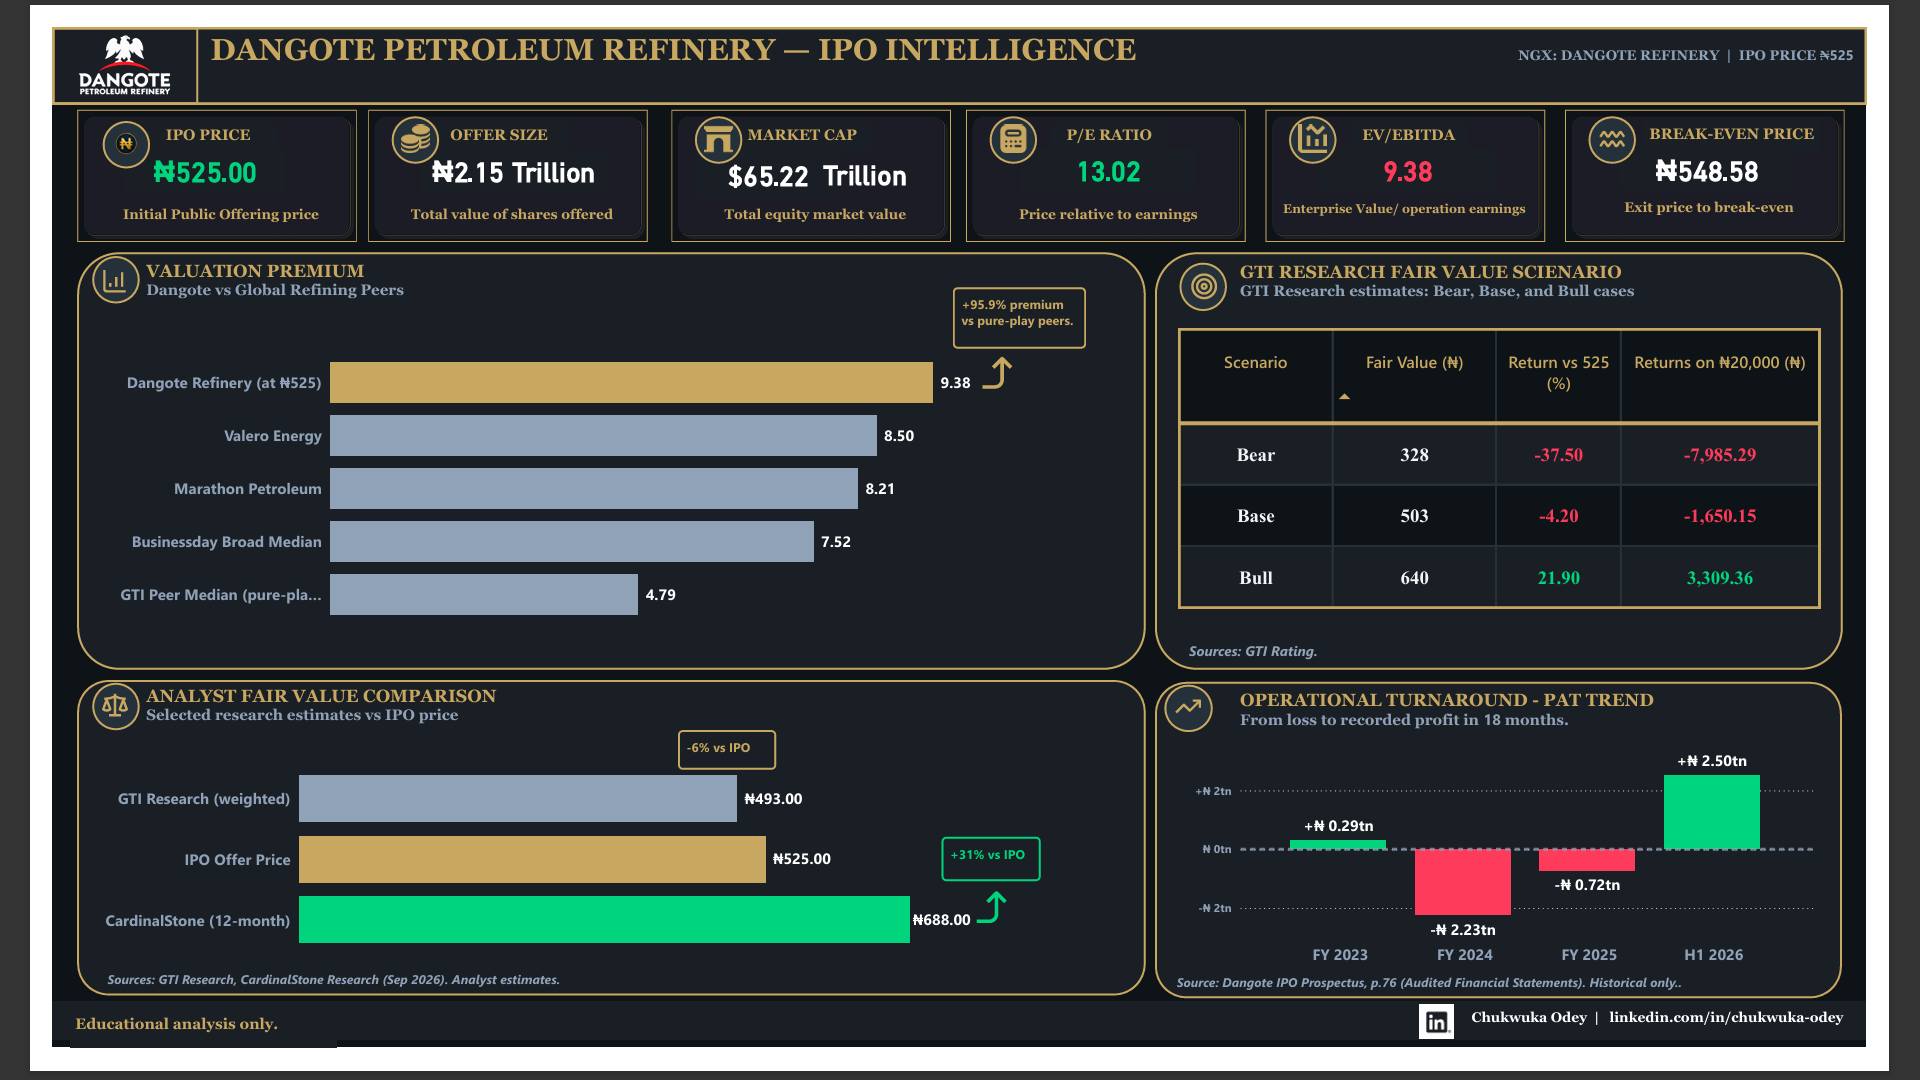

The page's visual inventory and layout, read from the dashboard file:
{"tool":"powerbi","page":{"name":"Page 1","canvas":[1920,1080],"ordinal":0},"visuals":[{"type":"group","id":"g1","title":"Header","box":[0,0,1920,81.1],"z":0},{"type":"shape","box":[0,0,1920,81.1],"z":0,"group":"g1"},{"type":"shape","box":[26,87.1,296,140],"z":0,"group":"g2"},{"type":"shape","box":[333.8,87.1,296,140],"z":0,"group":"g3"},{"type":"shape","box":[654.9,87.1,296,140],"z":0,"group":"g4"},{"type":"shape","box":[967.4,87.1,296,140],"z":0,"group":"g6"},{"type":"shape","box":[1283.8,87.1,296,140],"z":0,"group":"g12"},{"type":"shape","box":[1600.8,87.1,296,140],"z":0,"group":"g17"},{"type":"shape","box":[358.5,93.7,50,50],"z":0,"group":"g7"},{"type":"shape","box":[679.6,93.7,50,50],"z":0,"group":"g13"},{"type":"shape","box":[992.1,93.7,50,50],"z":0,"group":"g8"},{"type":"shape","box":[1308.5,93.7,50,50],"z":0,"group":"g9"},{"type":"shape","box":[1625.5,93.7,50,50],"z":0,"group":"g10"},{"type":"shape","box":[53,99.5,50,50],"z":0,"group":"g11"},{"type":"shape","box":[25.9,238.4,1130.7,441.6],"z":0,"group":"g18"},{"type":"shape","box":[1166.9,238.4,727.6,441.6],"z":0,"group":"g19"},{"type":"shape","box":[42.2,242.5,50,50],"z":0,"group":"g14"},{"type":"shape","box":[25.6,691.2,1130.7,334.3],"z":0,"group":"g21"},{"type":"shape","box":[1166.9,693.3,727.5,334.9],"z":0,"group":"g22"},{"type":"image","box":[970.7,887.4,44.8,87.5],"z":0,"group":"g15"},{"type":"shape","box":[0,1031.1,1920.5,41.4],"z":0,"group":"g20"},{"type":"textbox","box":[162.1,0,1757.9,81.1],"z":1000,"group":"g1"},{"type":"group","id":"g2","title":"IPO Price","box":[26,87.1,296,140],"z":1000},{"type":"image","box":[368.6,102.7,30.3,30.3],"z":1000,"group":"g7"},{"type":"image","box":[689.7,102.7,30.3,30.3],"z":1000,"group":"g13"},{"type":"image","box":[1002.2,102.7,30.3,30.3],"z":1000,"group":"g8"},{"type":"image","box":[1318.6,102.7,30.3,30.3],"z":1000,"group":"g9"},{"type":"image","box":[1635.6,102.7,30.3,30.3],"z":1000,"group":"g10"},{"type":"image","box":[63.1,108.5,30.3,30.3],"z":1000,"group":"g11"},{"type":"card","title":"Card 1","fields":{"Values":["Table.KPI IPO Price"]},"box":[77.1,128,168.5,46],"z":1000,"group":"g2"},{"type":"card","title":"Card 1","fields":{"Values":["Table.KPI PE"]},"box":[1025.4,128.4,185.4,44.9],"z":1000,"group":"g6"},{"type":"card","title":"Card 1","fields":{"Values":["Table.KPI EV_EBITDA"]},"box":[1341.8,128.4,185.4,44.9],"z":1000,"group":"g12"},{"type":"card","title":"Card 1","fields":{"Values":["Table.Break-Even Price"]},"box":[1658.8,128.4,185.4,44.9],"z":1000,"group":"g17"},{"type":"card","title":"Card 1","fields":{"Values":["Table.KPI Offer Size"]},"box":[390,129.8,195.5,43.8],"z":1000,"group":"g3"},{"type":"card","title":"Card 1","fields":{"Values":["Table.KPI Market Cap"]},"box":[679.6,133.2,155.1,46.1],"z":1000,"group":"g4"},{"type":"textbox","box":[93.4,242.5,635.4,74.5],"z":1000,"group":"g18"},{"type":"textbox","box":[1252,243,583,78],"z":1000,"group":"g19"},{"type":"shape","box":[1193.4,249.3,50,50.7],"z":1000,"group":"g5"},{"type":"image","box":[51,252.5,30,31.2],"z":1000,"group":"g14"},{"type":"textbox","box":[93.9,692.6,537.6,66.1],"z":1000,"group":"g21"},{"type":"shape","box":[41.9,694.3,50,50],"z":1000,"group":"g15"},{"type":"textbox","box":[1252.1,696,479.2,66.1],"z":1000,"group":"g22"},{"type":"shape","box":[1177.4,696.4,51,50.1],"z":1000,"group":"g16"},{"type":"textbox","box":[1496.8,1034.5,423.2,37],"z":1000,"group":"g20"},{"type":"textbox","box":[1197.6,644.6,622.2,30.3],"z":1500,"group":"g19"},{"type":"image","box":[0,0,153.6,81.1],"z":2000,"group":"g1"},{"type":"group","id":"g3","title":"Offer Size","box":[333.8,87.1,296,140],"z":2000},{"type":"textbox","box":[1612.4,175.7,280.9,39.3],"z":2000,"group":"g17"},{"type":"textbox","box":[1289.3,176.9,283.8,37.5],"z":2000,"group":"g12"},{"type":"textbox","box":[50.6,184.2,251.7,31.5],"z":2000,"group":"g2"},{"type":"textbox","box":[358.4,184.2,251.7,31.5],"z":2000,"group":"g3"},{"type":"textbox","box":[679.5,184.2,251.7,31.5],"z":2000,"group":"g4"},{"type":"textbox","box":[992,184.2,251.7,31.5],"z":2000,"group":"g6"},{"type":"image","box":[1204.5,258.7,29.5,31.9],"z":2000,"group":"g5"},{"type":"tableEx","fields":{"Values":["GTI_Scenarios.Scenario","GTI_Scenarios.Fair Value (₦)","GTI_Scenarios.Return vs 525 (%)","GTI_Scenarios.Profit on ₦20,000 (₦)"]},"box":[1186.2,314.4,710.4,320],"z":2000,"group":"g19"},{"type":"clusteredBarChart","fields":{"Category":["Peer_Comparison.Benchmark"],"Y":["Sum(Peer_Comparison.EV_EBITDA_x)"]},"box":[48.4,319.8,928,331.2],"z":2000,"group":"g18"},{"type":"image","box":[50.7,701.9,30,30],"z":2000,"group":"g15"},{"type":"image","box":[1186.3,704,30.6,30],"z":2000,"group":"g16"},{"type":"columnChart","fields":{"Y":["Table (3).PAT Display"],"Category":["Table (3).Period"]},"box":[1204.2,751.5,664.3,251.7],"z":2000,"group":"g22"},{"type":"clusteredBarChart","fields":{"Category":["Table (2).Source"],"Y":["Sum(Table (2).Fair Value)"]},"box":[48.1,752.8,928,250.7],"z":2000,"group":"g21"},{"type":"image","box":[1426.6,1034.8,77.6,37],"z":2000,"group":"g20"},{"type":"textbox","box":[940.8,856.9,104.5,46.9],"z":2500,"group":"g21"},{"type":"textbox","box":[52.8,993.8,759.5,29.9],"z":2750,"group":"g21"},{"type":"textbox","box":[1184.6,996.8,599,29.9],"z":2750,"group":"g22"},{"type":"group","id":"g4","title":"Market Cap","box":[654.9,87.1,296,140],"z":3000},{"type":"textbox","box":[1683.5,98.1,187.6,33.7],"z":3000,"group":"g17"},{"type":"textbox","box":[90.8,98.8,147.2,33.7],"z":3000,"group":"g2"},{"type":"textbox","box":[398.6,98.8,147.2,33.7],"z":3000,"group":"g3"},{"type":"textbox","box":[719.7,98.8,147.2,33.7],"z":3000,"group":"g4"},{"type":"textbox","box":[1057.7,98.9,122.5,32.6],"z":3000,"group":"g6"},{"type":"textbox","box":[1374.1,98.9,122.5,32.6],"z":3000,"group":"g12"},{"type":"group","id":"g5","title":"Group 1","box":[1193.4,249.3,50,50.7],"z":3000,"group":"g19"},{"type":"textbox","box":[952.7,275.7,141.3,64.9],"z":3000,"group":"g18"},{"type":"textbox","box":[661.3,743.8,104.5,42.7],"z":3000,"group":"g21"},{"type":"textbox","box":[19.2,1041.5,281.6,40.5],"z":3000,"group":"g20"},{"type":"group","id":"g6","title":"P/E","box":[967.4,87.1,296,140],"z":4000},{"type":"group","id":"g7","title":"Group 1","box":[358.5,93.7,50,50],"z":4000,"group":"g3"},{"type":"group","id":"g8","title":"Group 1","box":[992.1,93.7,50,50],"z":4000,"group":"g6"},{"type":"group","id":"g9","title":"Group 1","box":[1308.5,93.7,50,50],"z":4000,"group":"g12"},{"type":"group","id":"g10","title":"Group 1","box":[1625.5,93.7,50,50],"z":4000,"group":"g17"},{"type":"group","id":"g11","title":"Group 1","box":[53,99.5,50,50],"z":4000,"group":"g2"},{"type":"textbox","box":[803.2,135.3,128.1,42.7],"z":4000,"group":"g4"},{"type":"image","box":[976.5,322.6,45,86.9],"z":4000,"group":"g18"},{"type":"group","id":"g12","title":"EV","box":[1283.8,87.1,296,140],"z":5000},{"type":"group","id":"g13","title":"Group 1","box":[679.6,93.7,50,50],"z":5000,"group":"g4"},{"type":"group","id":"g14","title":"Group 1","box":[42.2,242.5,50,50],"z":5000,"group":"g18"},{"type":"group","id":"g15","title":"Group 1","box":[41.9,694.3,973.6,280.6],"z":5000,"group":"g21"},{"type":"group","id":"g16","title":"Group 1","box":[1177.4,696.4,51,50.1],"z":5000,"group":"g22"},{"type":"group","id":"g17","title":"BREAK-EVEN","box":[1600.8,87.1,296,140],"z":6000},{"type":"group","id":"g18","title":"Card 1","box":[25.9,238.4,1130.7,441.6],"z":7000},{"type":"group","id":"g19","title":"Card 2","box":[1166.9,238.4,729.7,441.6],"z":8000},{"type":"group","id":"g20","title":"Footer","box":[0,1031.1,1920.5,50.9],"z":9000},{"type":"group","id":"g21","title":"Card 3","box":[25.6,691.2,1130.7,334.9],"z":10000},{"type":"group","id":"g22","title":"Card 3","box":[1166.9,693.3,727.5,334.9],"z":11000}]}

Visuals, with their boxes in screenshot pixels (x1, y1, x2, y2), scaled from the page's 1920x1080 canvas onto the 1920x1080 screenshot:
"Header" group: x1=0 y1=0 x2=1919 y2=81
shape: x1=0 y1=0 x2=1919 y2=81
shape: x1=26 y1=87 x2=322 y2=227
shape: x1=334 y1=87 x2=630 y2=227
shape: x1=655 y1=87 x2=951 y2=227
shape: x1=967 y1=87 x2=1263 y2=227
shape: x1=1284 y1=87 x2=1580 y2=227
shape: x1=1601 y1=87 x2=1897 y2=227
shape: x1=358 y1=94 x2=408 y2=144
shape: x1=680 y1=94 x2=730 y2=144
shape: x1=992 y1=94 x2=1042 y2=144
shape: x1=1308 y1=94 x2=1358 y2=144
shape: x1=1626 y1=94 x2=1676 y2=144
shape: x1=53 y1=100 x2=103 y2=150
shape: x1=26 y1=238 x2=1157 y2=680
shape: x1=1167 y1=238 x2=1894 y2=680
shape: x1=42 y1=242 x2=92 y2=292
shape: x1=26 y1=691 x2=1156 y2=1026
shape: x1=1167 y1=693 x2=1894 y2=1028
image: x1=971 y1=887 x2=1016 y2=975
shape: x1=0 y1=1031 x2=1919 y2=1072
textbox: x1=162 y1=0 x2=1919 y2=81
"IPO Price" group: x1=26 y1=87 x2=322 y2=227
image: x1=369 y1=103 x2=399 y2=133
image: x1=690 y1=103 x2=720 y2=133
image: x1=1002 y1=103 x2=1032 y2=133
image: x1=1319 y1=103 x2=1349 y2=133
image: x1=1636 y1=103 x2=1666 y2=133
image: x1=63 y1=108 x2=93 y2=139
"Card 1" card: x1=77 y1=128 x2=246 y2=174
"Card 1" card: x1=1025 y1=128 x2=1211 y2=173
"Card 1" card: x1=1342 y1=128 x2=1527 y2=173
"Card 1" card: x1=1659 y1=128 x2=1844 y2=173
"Card 1" card: x1=390 y1=130 x2=586 y2=174
"Card 1" card: x1=680 y1=133 x2=835 y2=179
textbox: x1=93 y1=242 x2=729 y2=317
textbox: x1=1252 y1=243 x2=1835 y2=321
shape: x1=1193 y1=249 x2=1243 y2=300
image: x1=51 y1=252 x2=81 y2=284
textbox: x1=94 y1=693 x2=632 y2=759
shape: x1=42 y1=694 x2=92 y2=744
textbox: x1=1252 y1=696 x2=1731 y2=762
shape: x1=1177 y1=696 x2=1228 y2=746
textbox: x1=1497 y1=1034 x2=1919 y2=1072
textbox: x1=1198 y1=645 x2=1820 y2=675
image: x1=0 y1=0 x2=154 y2=81
"Offer Size" group: x1=334 y1=87 x2=630 y2=227
textbox: x1=1612 y1=176 x2=1893 y2=215
textbox: x1=1289 y1=177 x2=1573 y2=214
textbox: x1=51 y1=184 x2=302 y2=216
textbox: x1=358 y1=184 x2=610 y2=216
textbox: x1=680 y1=184 x2=931 y2=216
textbox: x1=992 y1=184 x2=1244 y2=216
image: x1=1204 y1=259 x2=1234 y2=291
tableEx - GTI_Scenarios.Scenario x GTI_Scenarios.Fair Value (₦): x1=1186 y1=314 x2=1897 y2=634
clusteredBarChart - Peer_Comparison.Benchmark x Sum(Peer_Comparison.EV_EBITDA_x): x1=48 y1=320 x2=976 y2=651
image: x1=51 y1=702 x2=81 y2=732
image: x1=1186 y1=704 x2=1217 y2=734
columnChart - Table (3).PAT Display x Table (3).Period: x1=1204 y1=752 x2=1868 y2=1003
clusteredBarChart - Table (2).Source x Sum(Table (2).Fair Value): x1=48 y1=753 x2=976 y2=1004
image: x1=1427 y1=1035 x2=1504 y2=1072
textbox: x1=941 y1=857 x2=1045 y2=904
textbox: x1=53 y1=994 x2=812 y2=1024
textbox: x1=1185 y1=997 x2=1784 y2=1027
"Market Cap" group: x1=655 y1=87 x2=951 y2=227
textbox: x1=1684 y1=98 x2=1871 y2=132
textbox: x1=91 y1=99 x2=238 y2=132
textbox: x1=399 y1=99 x2=546 y2=132
textbox: x1=720 y1=99 x2=867 y2=132
textbox: x1=1058 y1=99 x2=1180 y2=132
textbox: x1=1374 y1=99 x2=1497 y2=132
"Group 1" group: x1=1193 y1=249 x2=1243 y2=300
textbox: x1=953 y1=276 x2=1094 y2=341
textbox: x1=661 y1=744 x2=766 y2=786
textbox: x1=19 y1=1042 x2=301 y2=1079
"P/E" group: x1=967 y1=87 x2=1263 y2=227
"Group 1" group: x1=358 y1=94 x2=408 y2=144
"Group 1" group: x1=992 y1=94 x2=1042 y2=144
"Group 1" group: x1=1308 y1=94 x2=1358 y2=144
"Group 1" group: x1=1626 y1=94 x2=1676 y2=144
"Group 1" group: x1=53 y1=100 x2=103 y2=150
textbox: x1=803 y1=135 x2=931 y2=178
image: x1=976 y1=323 x2=1022 y2=410
"EV" group: x1=1284 y1=87 x2=1580 y2=227
"Group 1" group: x1=680 y1=94 x2=730 y2=144
"Group 1" group: x1=42 y1=242 x2=92 y2=292
"Group 1" group: x1=42 y1=694 x2=1016 y2=975
"Group 1" group: x1=1177 y1=696 x2=1228 y2=746
"BREAK-EVEN" group: x1=1601 y1=87 x2=1897 y2=227
"Card 1" group: x1=26 y1=238 x2=1157 y2=680
"Card 2" group: x1=1167 y1=238 x2=1897 y2=680
"Footer" group: x1=0 y1=1031 x2=1919 y2=1079
"Card 3" group: x1=26 y1=691 x2=1156 y2=1026
"Card 3" group: x1=1167 y1=693 x2=1894 y2=1028
